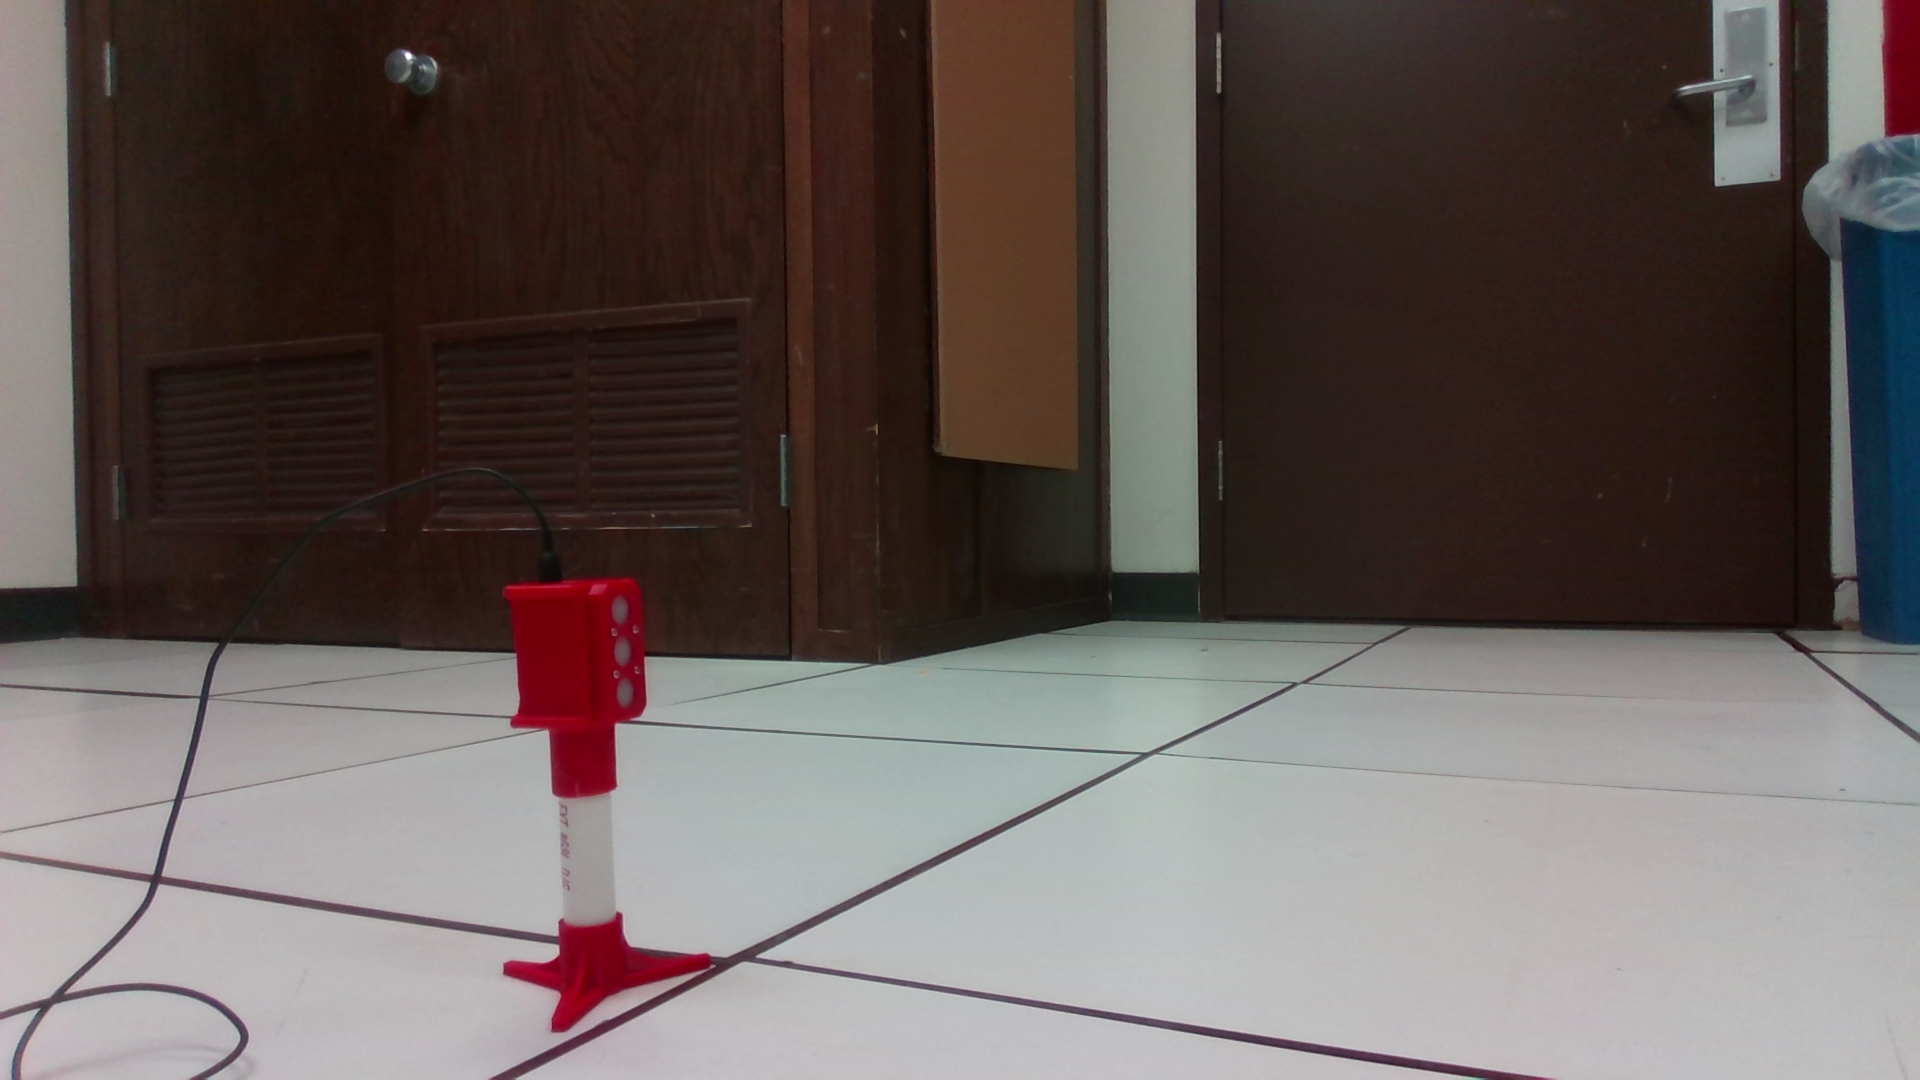stoplight: (502, 574, 649, 796)
